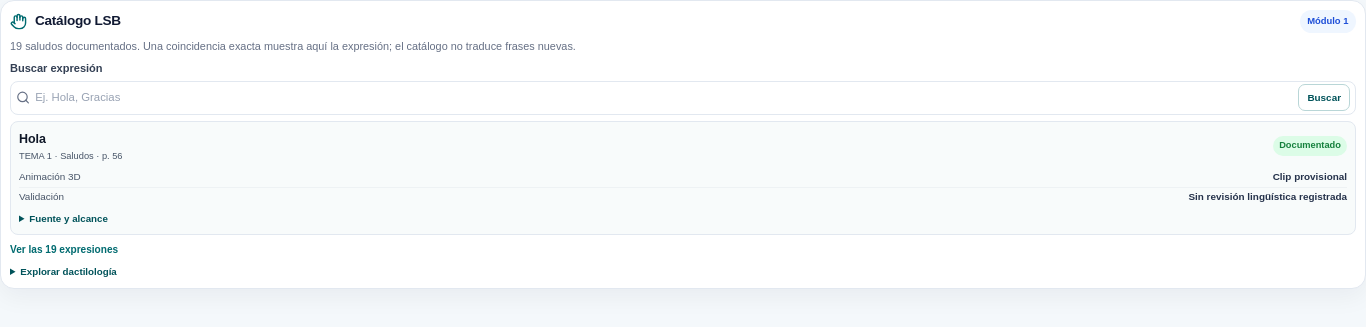
Test: LsbExpressionPanel › keeps manual catalog browsing distinct from the exact response draft
The image size is (1366, 327).
In the field labelled "Buscar expresión": [664, 98] box [35,89,1293,106], type "Gracias"
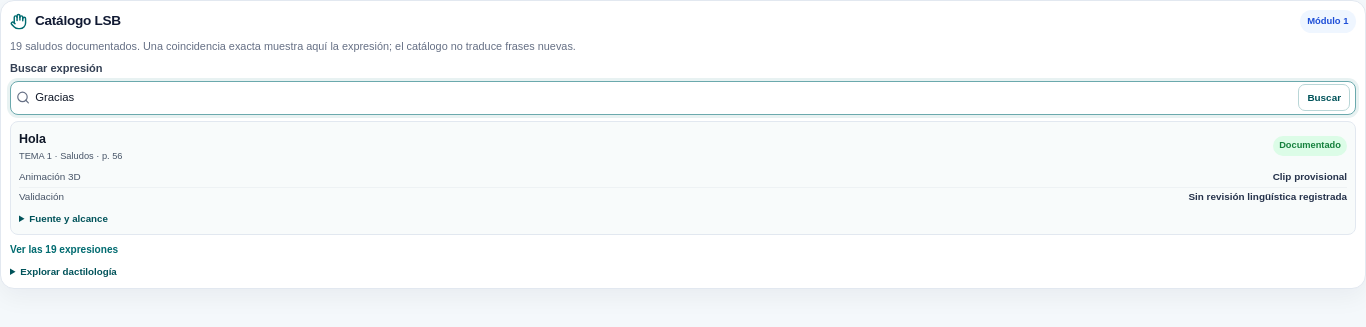
Click the button "Buscar": [1324, 98] box [1298,84,1350,111]
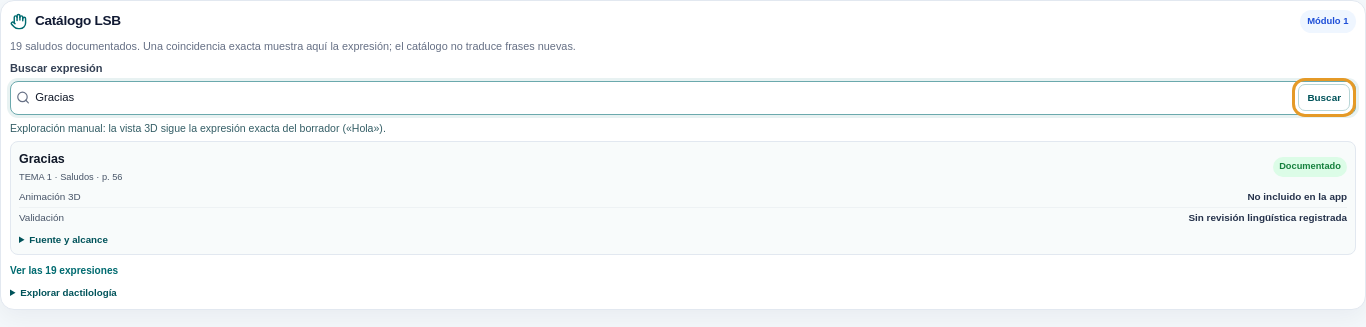
Expected: the element named "Ficha de Gracias" is shown, [10,141,1356,255]
Expected: the text "vista 3D sigue la expresión exacta del borrador" shows "Hola", [352,122,374,134]
